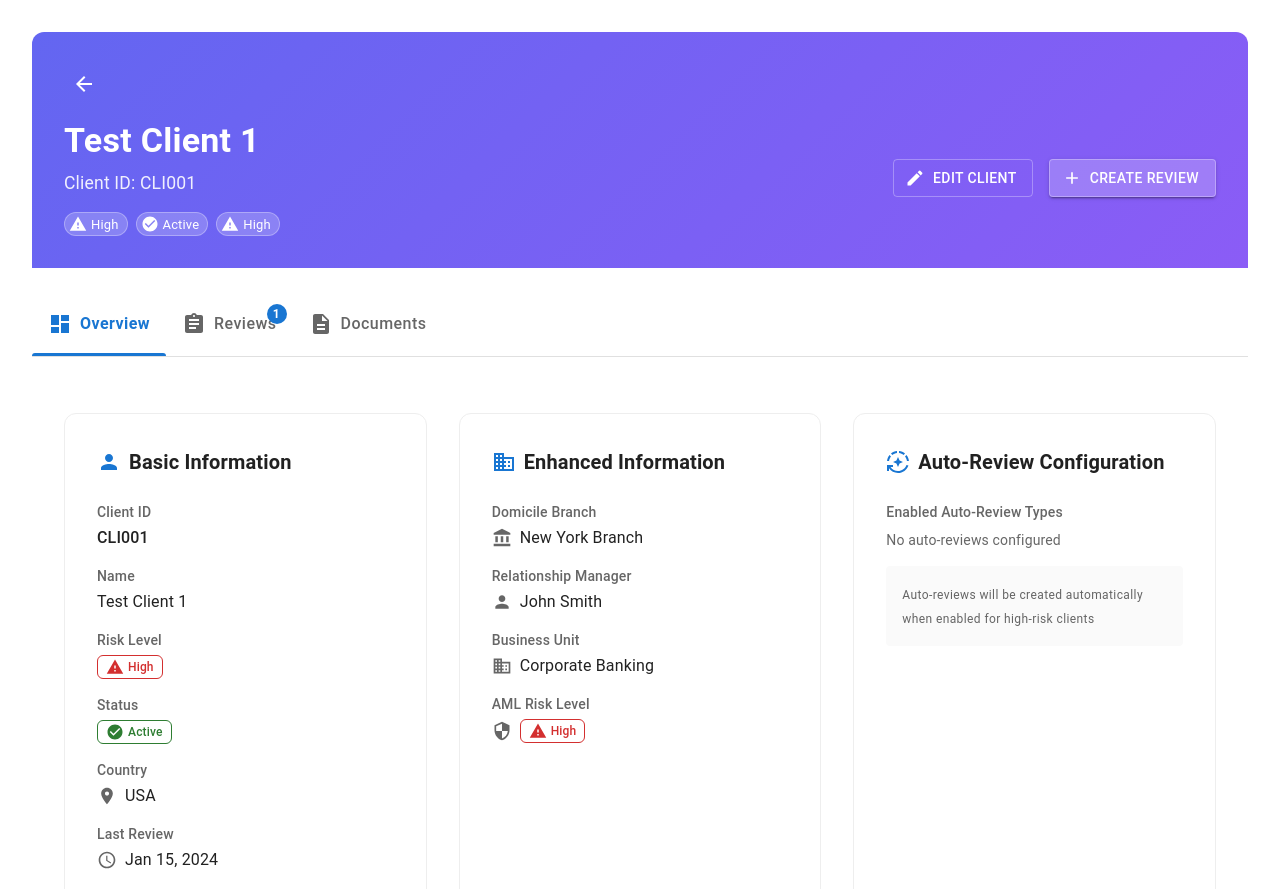
Test: Enhanced Client Components - Requirements Testing › ClientDetail - Enhanced Information Display (Requirements 1.1-1.5) › provides editing capabilities for enhanced fields (Requirement 1.5)
Click the button "Edit Client". click: (963, 178)
box: [893,159,1033,197]
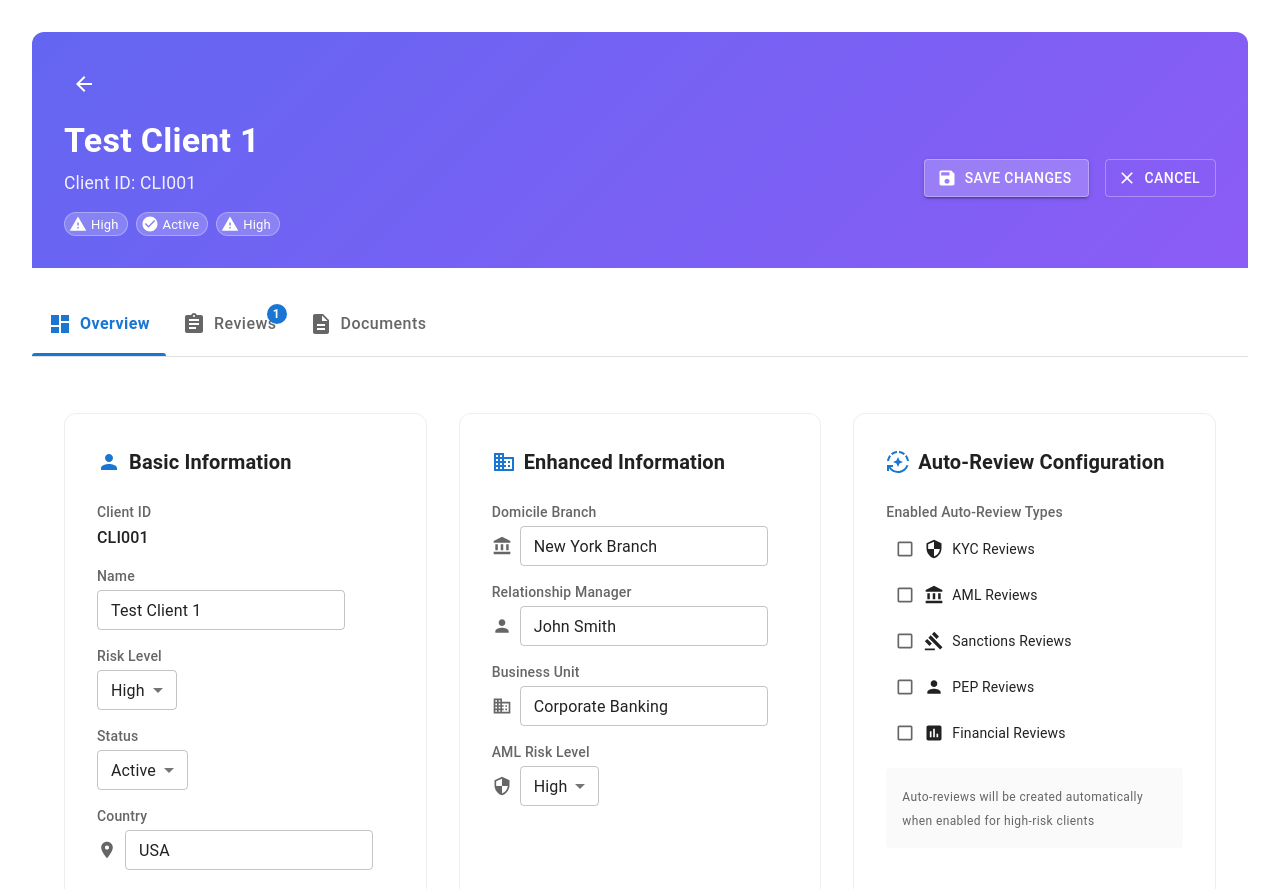
Now the button "Save Changes" is shown, box [924,159,1088,197]
Now the button "Cancel" is shown, box [1104,159,1216,197]
Now the field showing "New York Branch" below "Domicile Branch" is shown, box [520,526,768,566]
